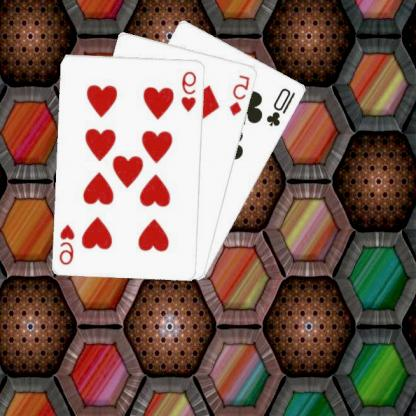10C: (265, 84, 299, 128)
5D: (228, 72, 254, 117)
9H: (181, 68, 200, 113), (59, 221, 78, 266)
